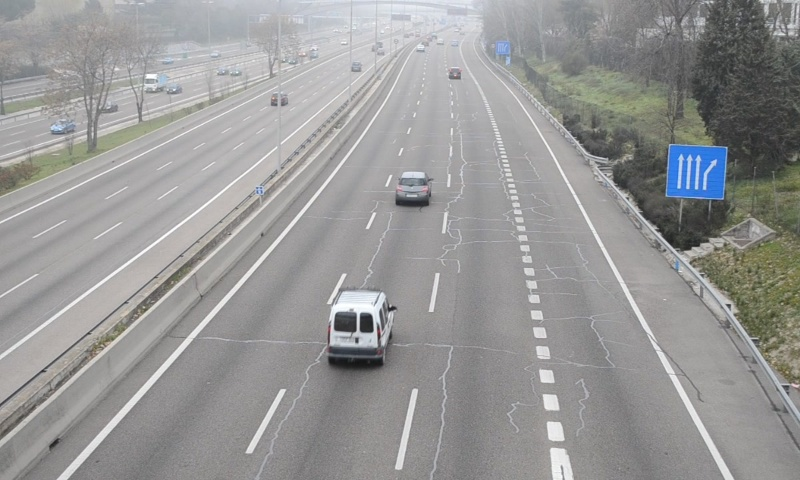car: (396, 170, 431, 205)
van: (327, 291, 394, 360)
